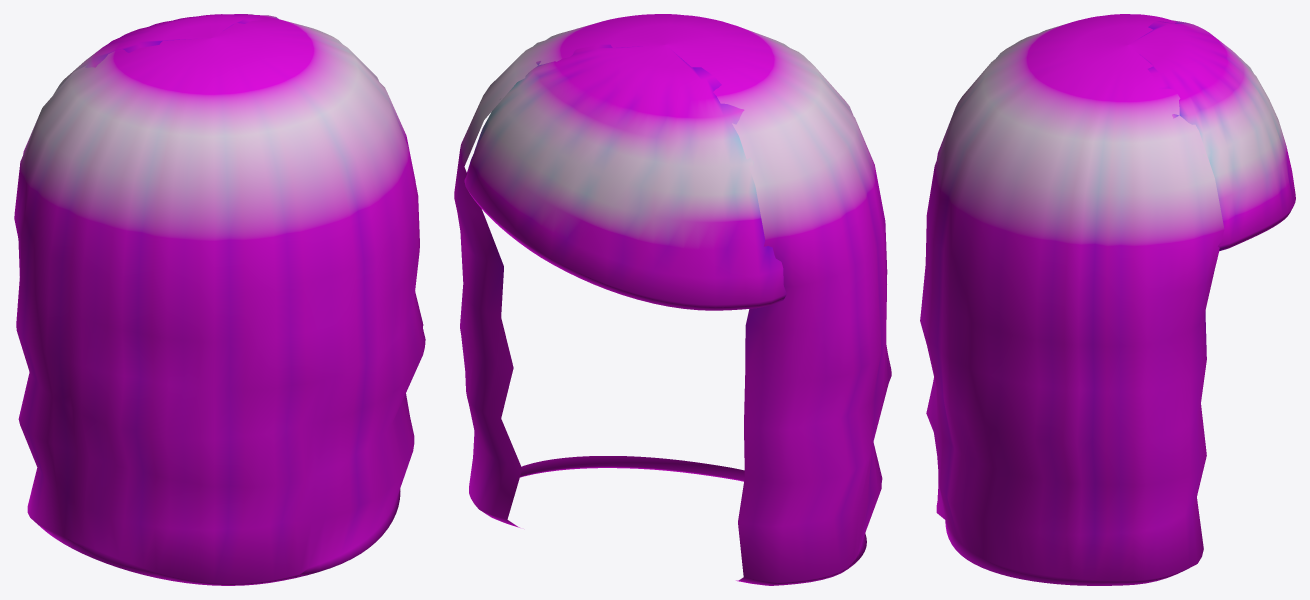
File: long_mid.glb
The picture shows the model from 3 angles, left to right: view 1: azimuth 30°, elevation 25°; view 2: azimuth 150°, elevation 25°; view 3: azimuth 270°, elevation 25°; orthographic projection. The views are drawn at different scales.
Parts seen in each view (by area): view 1: long; view 2: long; view 3: long.
Part boxes in pixels (box(x1,y1,x2,y2)): long: box(14, 14, 425, 585); long: box(454, 14, 891, 585); long: box(920, 14, 1295, 585).
Size of the model in its own units: 1.1 by 1.33 by 0.9398.
